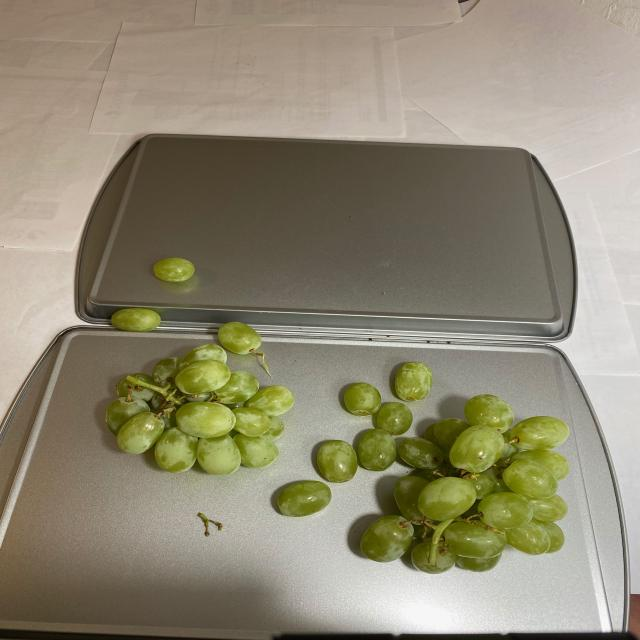grapes: (107, 257, 574, 578)
